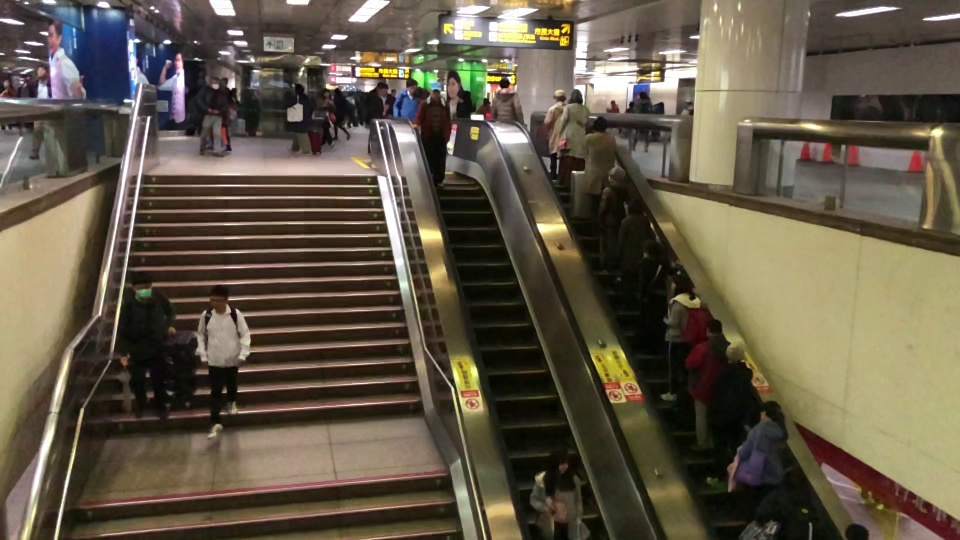person_head: (764, 488, 795, 516), (757, 394, 784, 423), (202, 286, 232, 311), (666, 270, 689, 294), (131, 274, 153, 299), (723, 341, 745, 365), (588, 113, 608, 136), (494, 74, 513, 97), (608, 161, 626, 185), (845, 520, 865, 540), (32, 63, 49, 85), (569, 87, 586, 108), (626, 201, 644, 220), (401, 77, 418, 96), (552, 85, 567, 106), (288, 82, 305, 100), (551, 453, 566, 473), (374, 79, 390, 97), (203, 79, 220, 95), (706, 318, 719, 338), (430, 84, 442, 103), (633, 85, 648, 99), (648, 243, 664, 256), (683, 98, 697, 111), (222, 85, 234, 100)
person_vbox: (193, 284, 253, 444), (117, 272, 177, 425), (721, 393, 795, 497), (709, 340, 762, 485), (661, 269, 716, 397), (529, 451, 599, 540), (680, 319, 728, 445), (730, 488, 817, 540), (420, 84, 454, 186), (24, 61, 58, 162), (599, 158, 631, 260), (581, 115, 615, 206), (356, 79, 394, 153), (563, 84, 589, 183), (193, 78, 225, 157), (486, 73, 527, 131), (277, 81, 309, 154), (543, 84, 566, 183), (620, 85, 656, 148), (641, 241, 670, 314), (390, 76, 421, 135), (619, 200, 645, 264), (220, 80, 240, 151), (666, 96, 702, 127)
